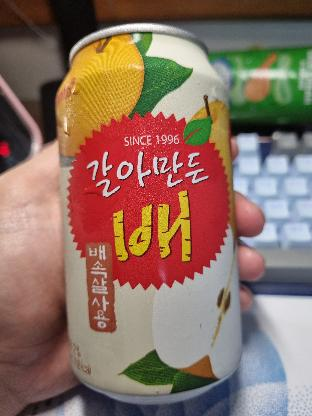Can: (45, 32, 259, 400)
